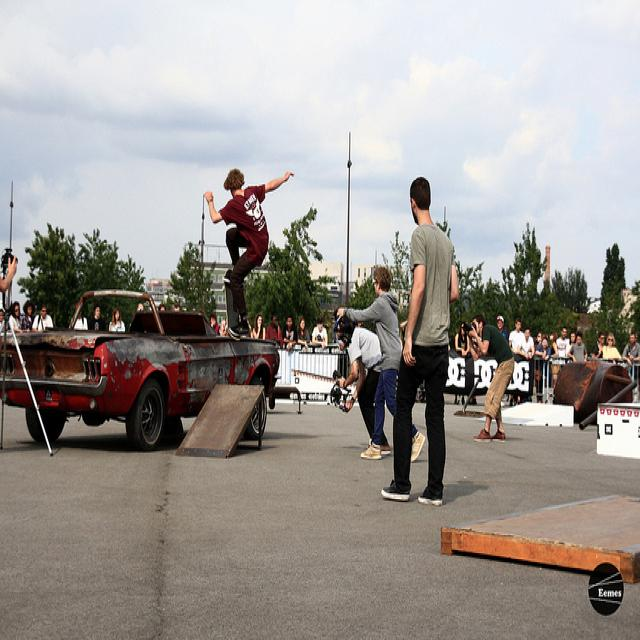Vehicle: (2, 290, 280, 452)
